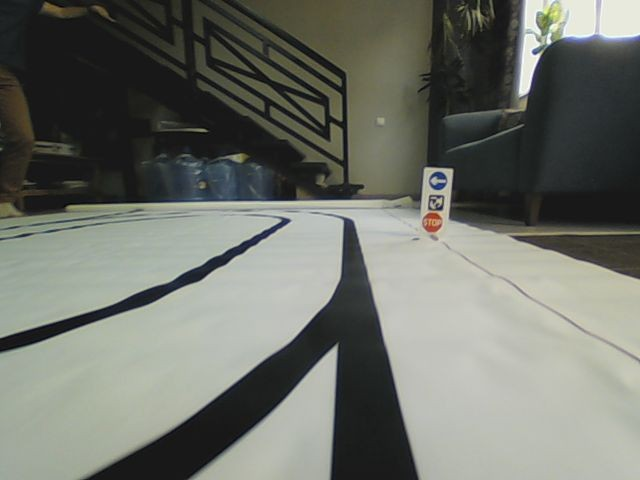Stop: (421, 211, 443, 233)
